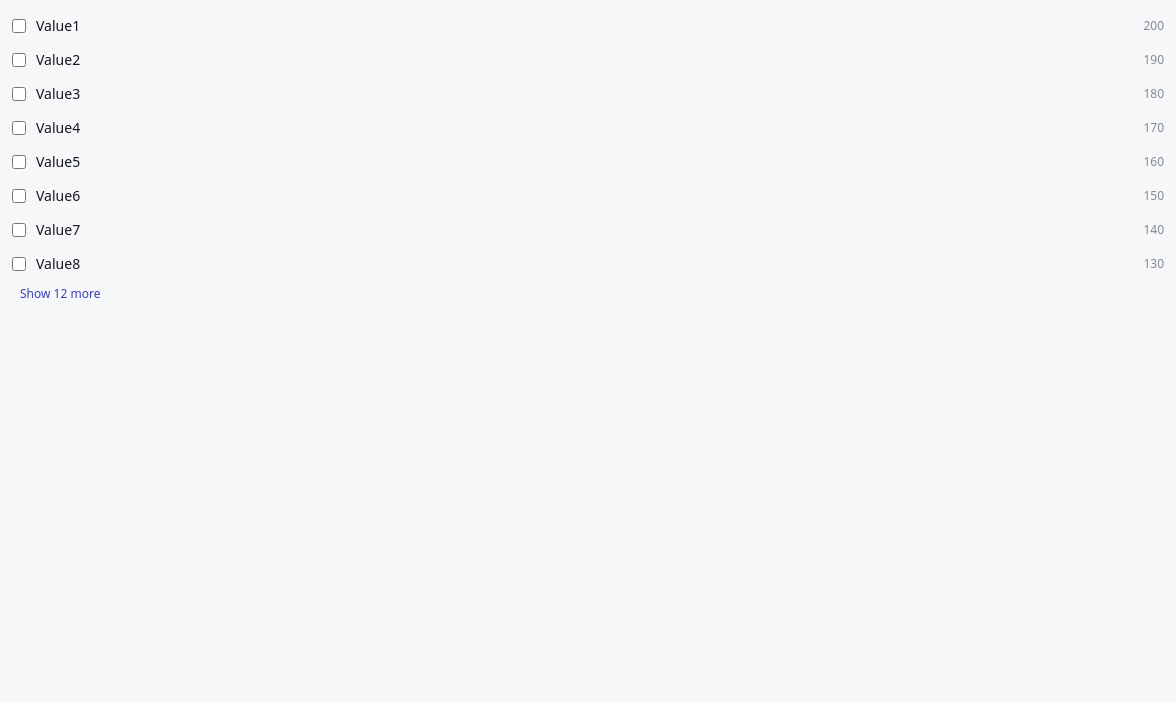
Test: FacetGroup › collapsing › collapses again
Click the button "Show 12 more" at (60, 294), box x1=12 y1=286 x2=108 y2=302
(page scrolled)
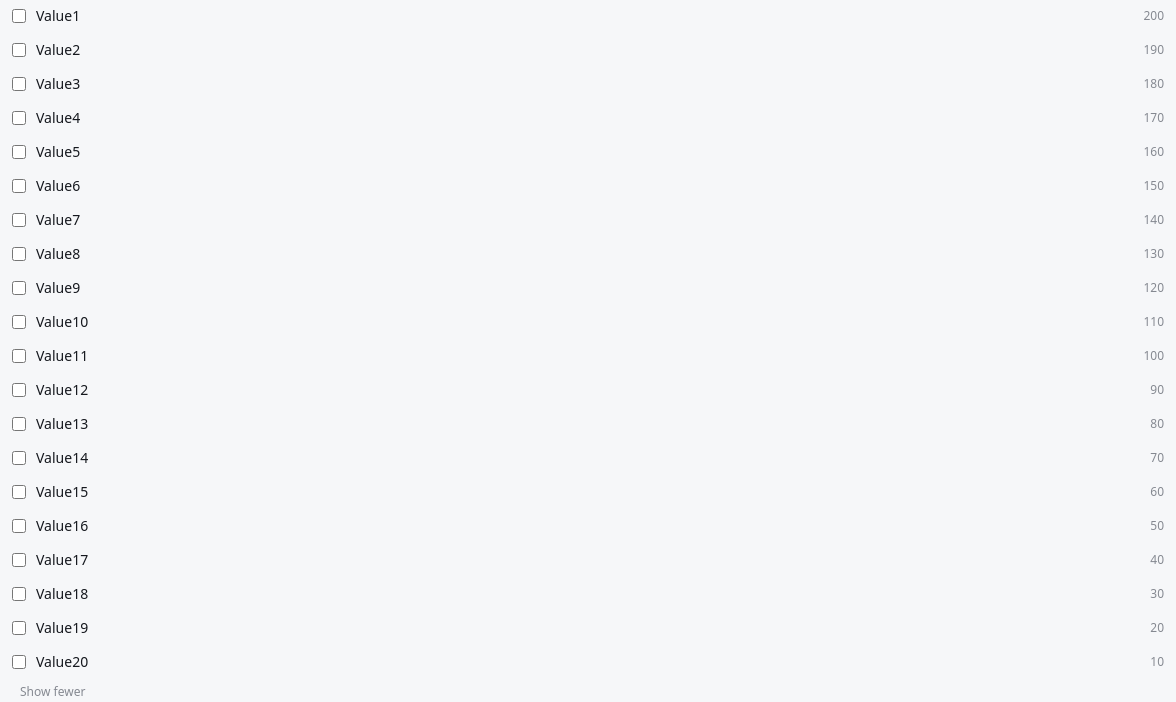
Click the button "Show fewer" at (53, 692), box x1=12 y1=684 x2=93 y2=700
(page scrolled)
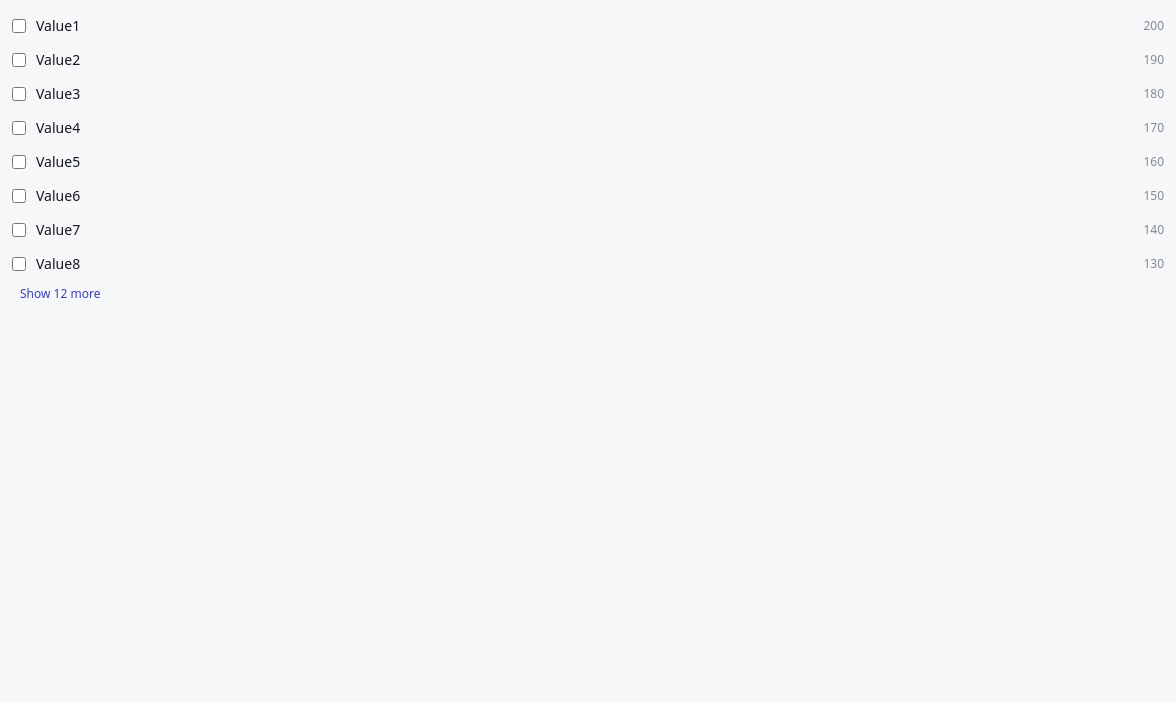
Now the number of checkboxes is 8
